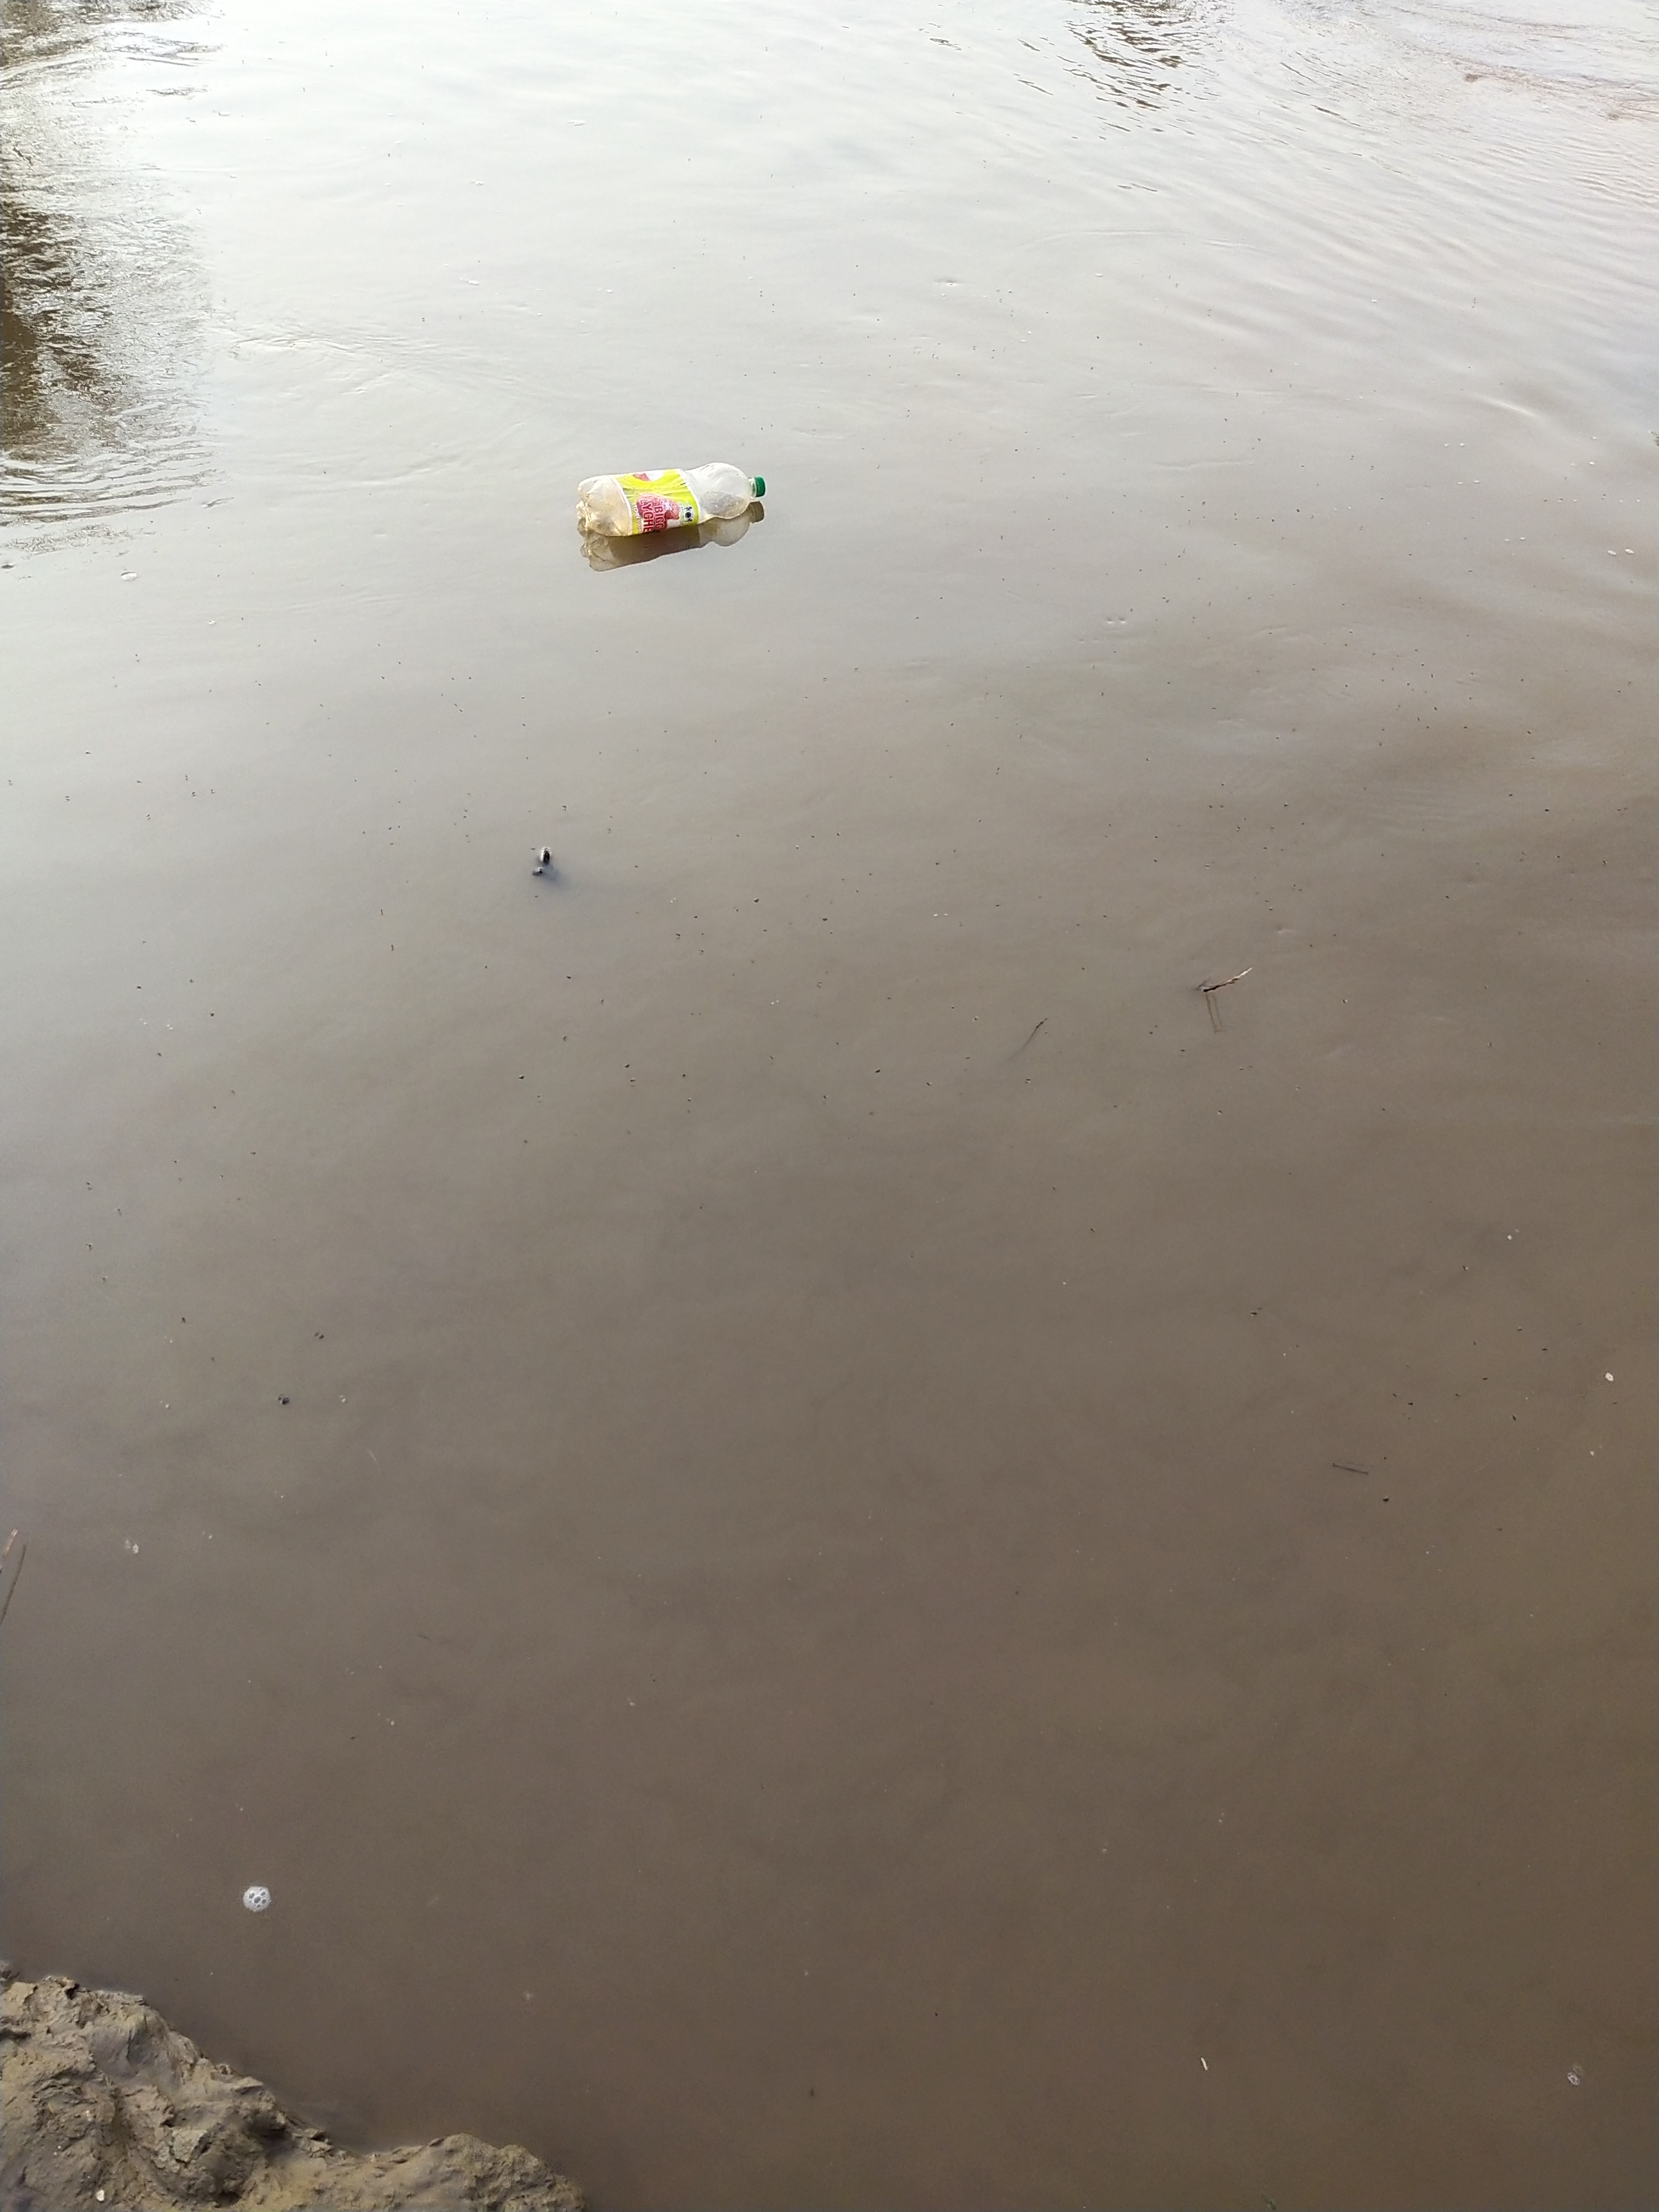Plastic Bottle: (575, 462, 767, 538)
